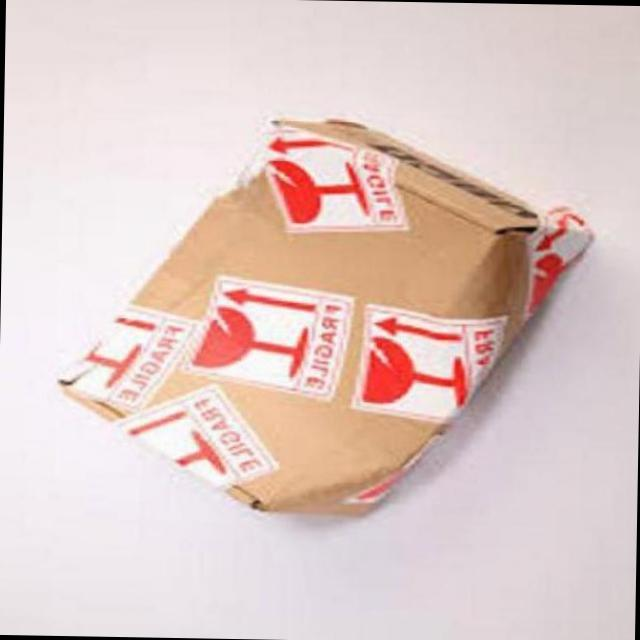box: (39, 106, 596, 528)
